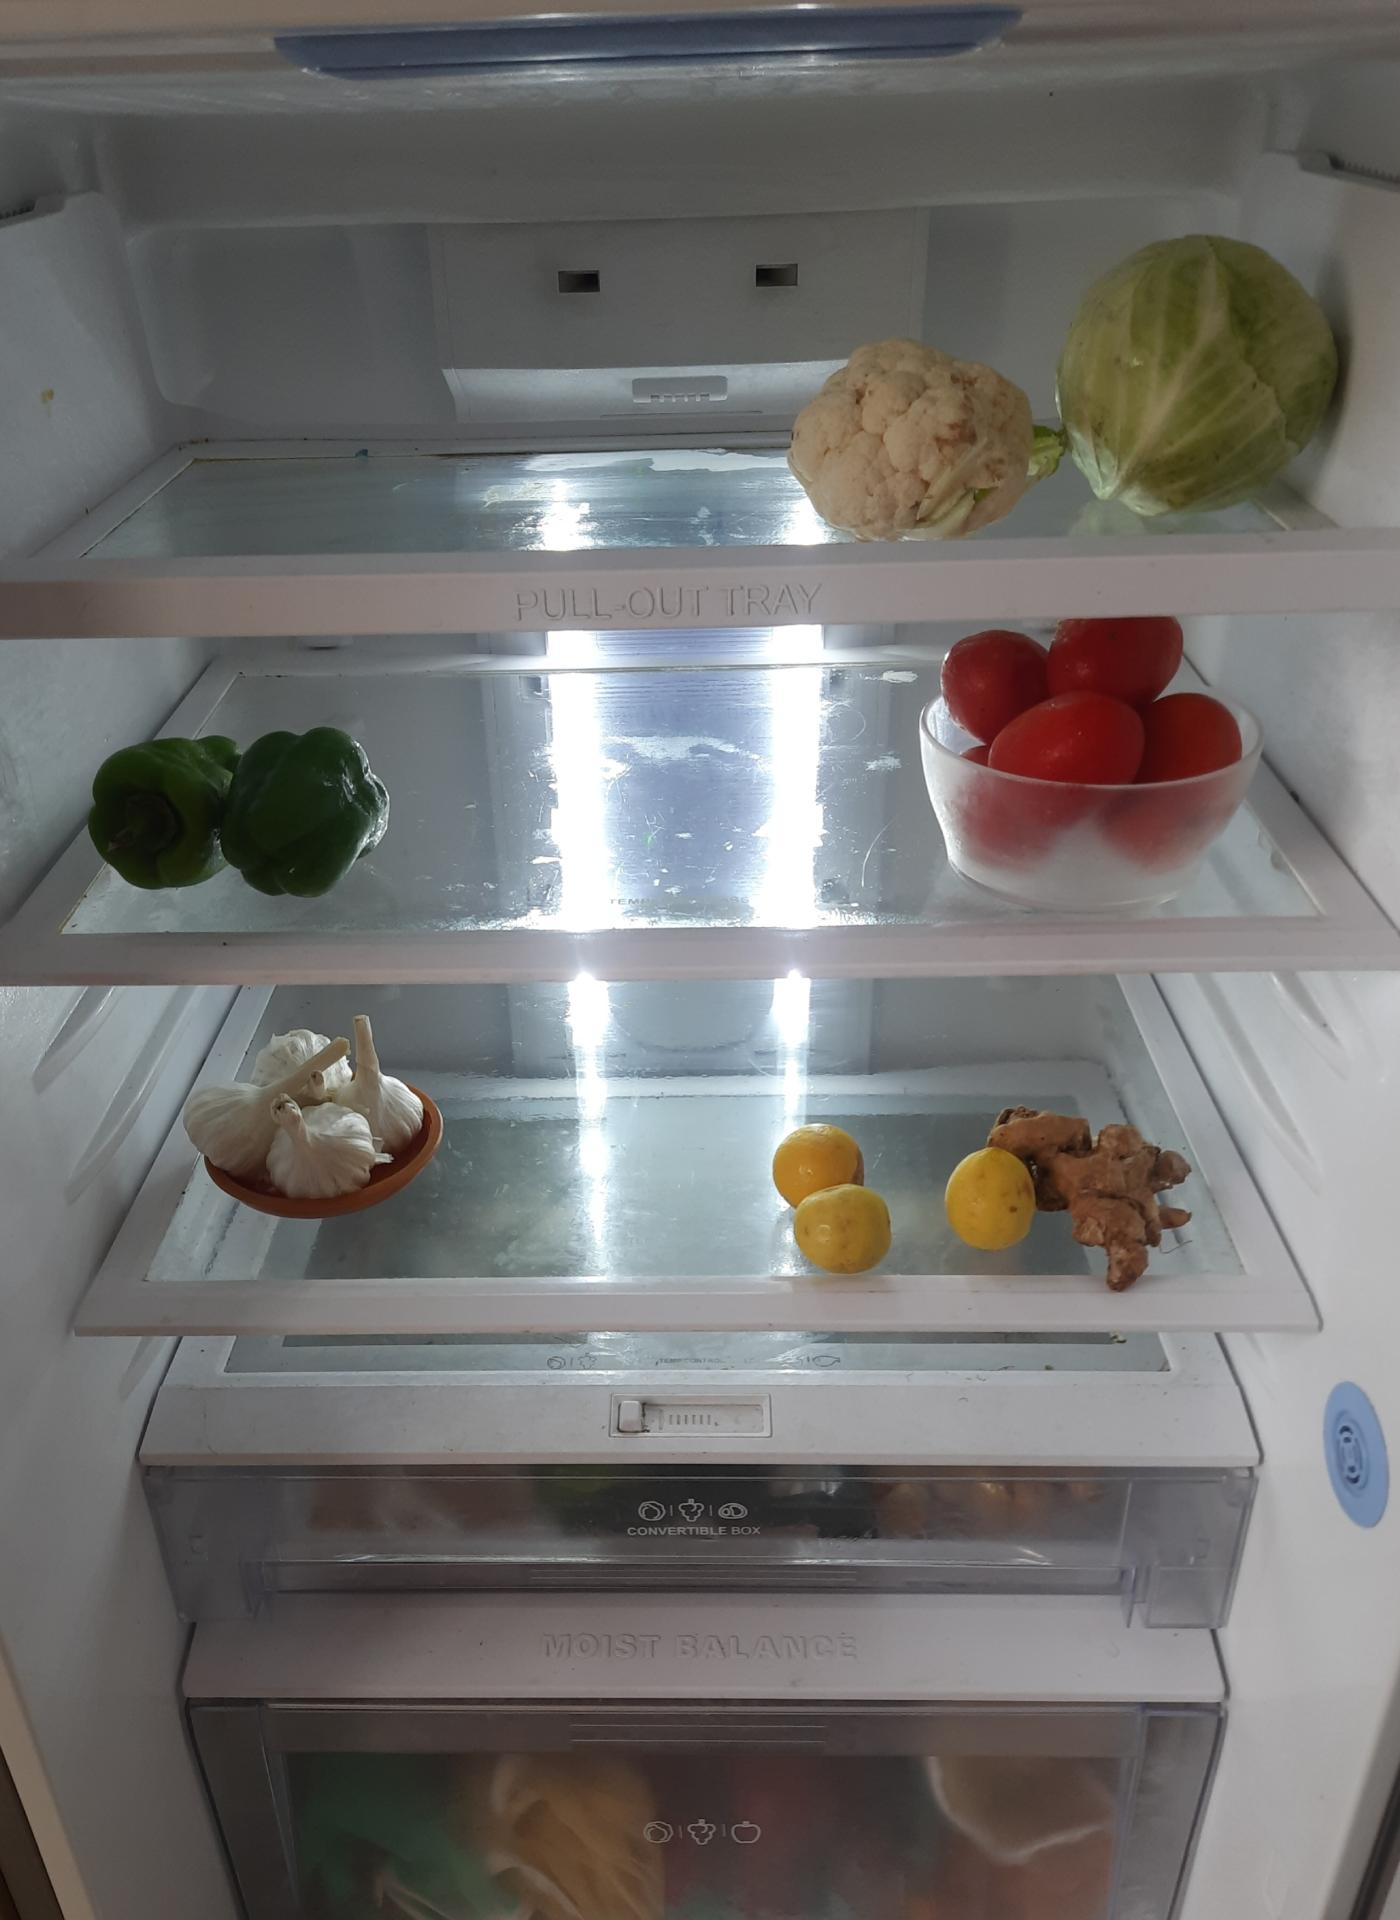cabbage: (1053, 227, 1346, 513)
capsicum: (85, 727, 395, 911)
cauliflower: (786, 331, 1059, 535)
garlic: (186, 1014, 429, 1200)
ginger: (1000, 1108, 1199, 1292)
lemon: (771, 1118, 896, 1270), (948, 1142, 1035, 1252)
tomato: (939, 622, 1252, 868)
